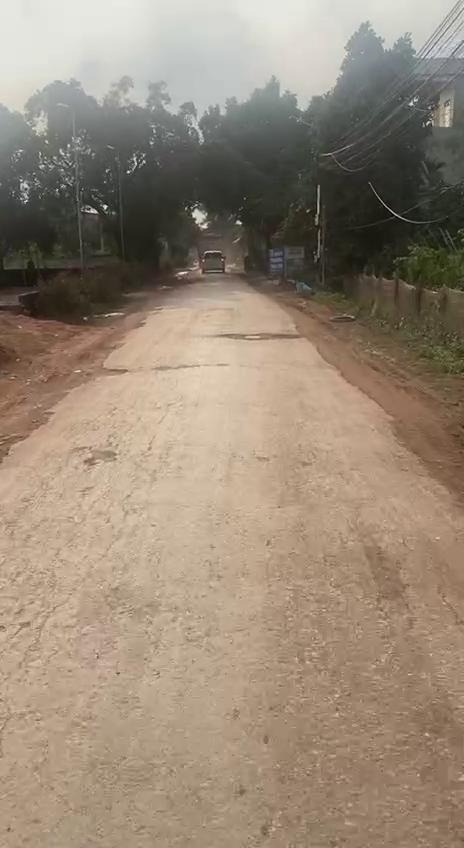pothole: (218, 323, 302, 344)
